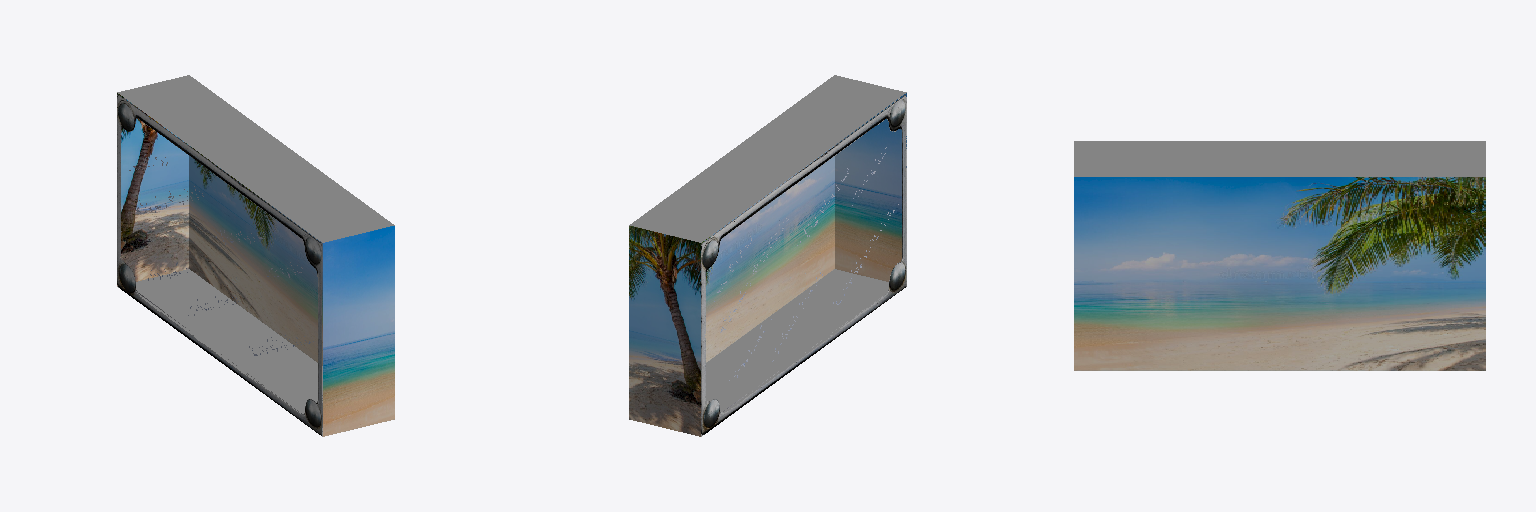
3 renders of one model, left to right at view 1: azimuth 30°, elevation 25°; view 2: azimuth 150°, elevation 25°; view 3: azimuth 270°, elevation 25°, orthographic.
Parts seen in each view (by area): view 1: Box001; view 2: Box001; view 3: Box001.
Part boxes in pixels (x1,y1,x2,y2): Box001: (117,75,394,436); Box001: (629,75,906,436); Box001: (1074,141,1485,370).
Bounding box in the file's own units: 8 × 20.54 × 39.44.
6 materials, 4 textured.